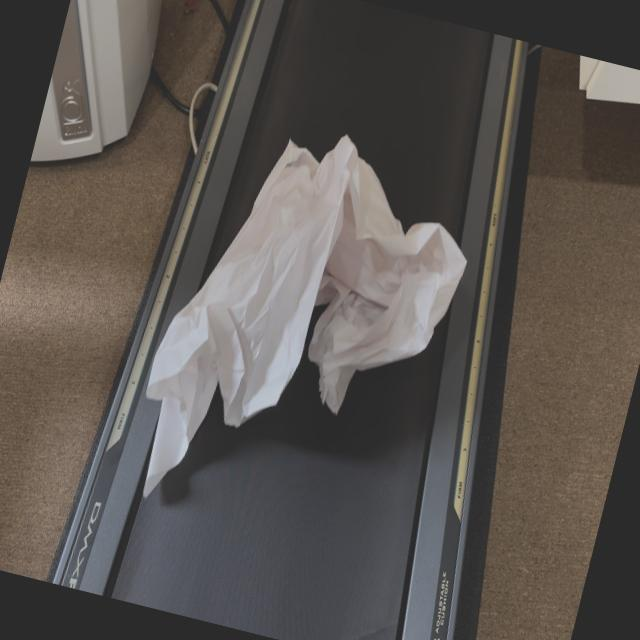Trash: (147, 132, 486, 539)
